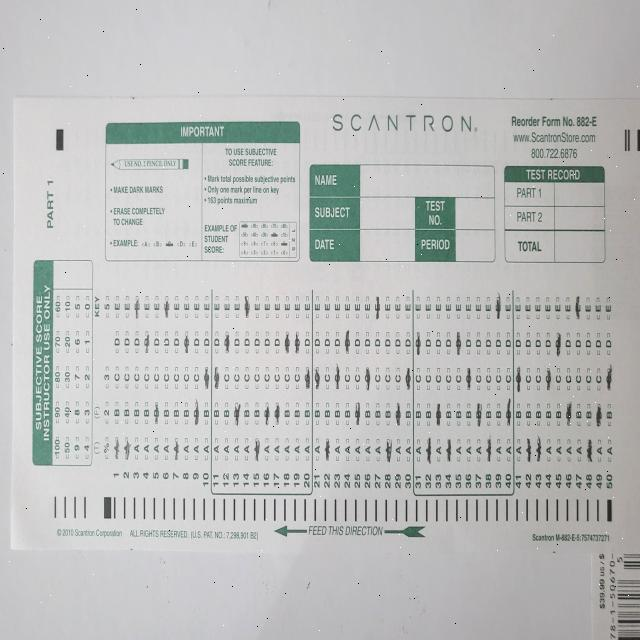scantron: (11, 95, 640, 552)
